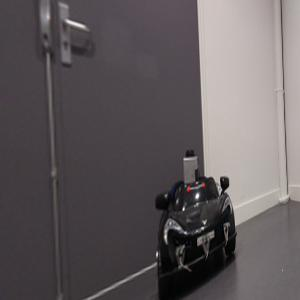big: (155, 177, 239, 300)
